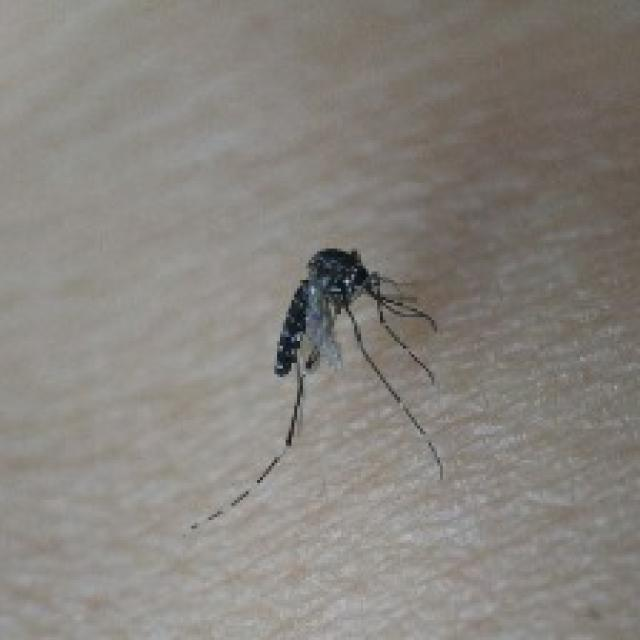aedes: (186, 243, 446, 531)
